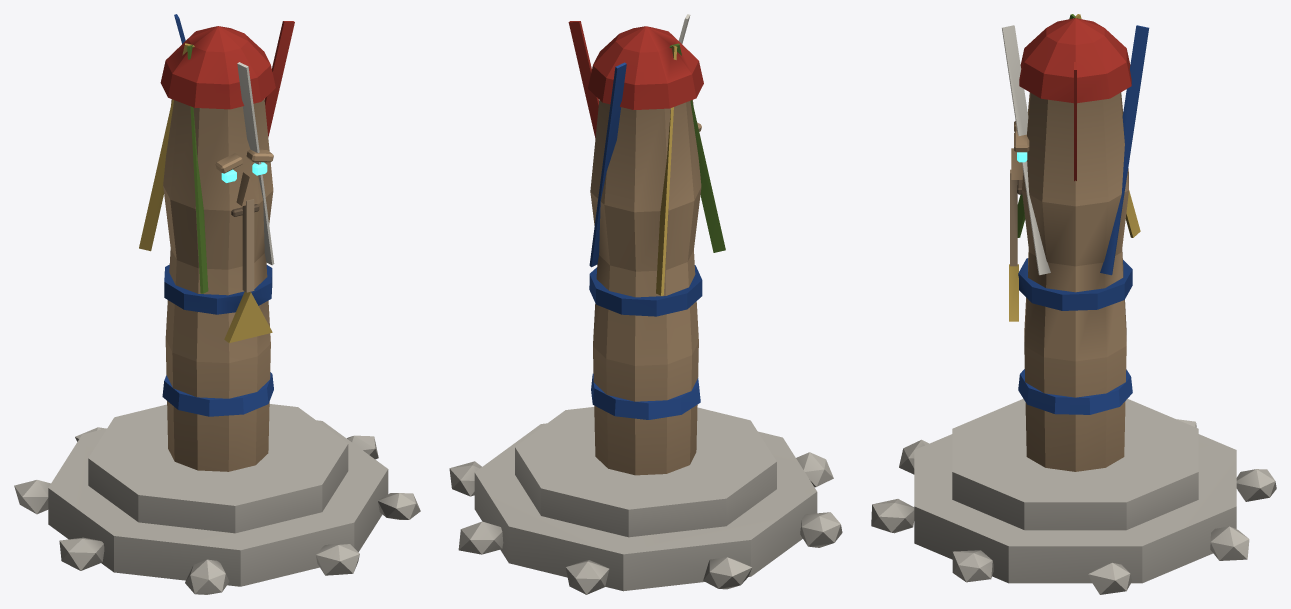
File: idol_fonk.glb
3 views of the same model, side by side, from view 1: azimuth 30°, elevation 25°; view 2: azimuth 150°, elevation 25°; view 3: azimuth 270°, elevation 25° (orthographic).
Parts seen in each view (by area): view 1: idol_fonk; view 2: idol_fonk; view 3: idol_fonk.
Boxes of the visible parts, box(x1,y1,x2,y2) form: idol_fonk: box(14, 14, 420, 594); idol_fonk: box(449, 14, 842, 594); idol_fonk: box(871, 14, 1276, 594).
Size of the model in its own units: 0.7958 by 1.08 by 0.7909.
